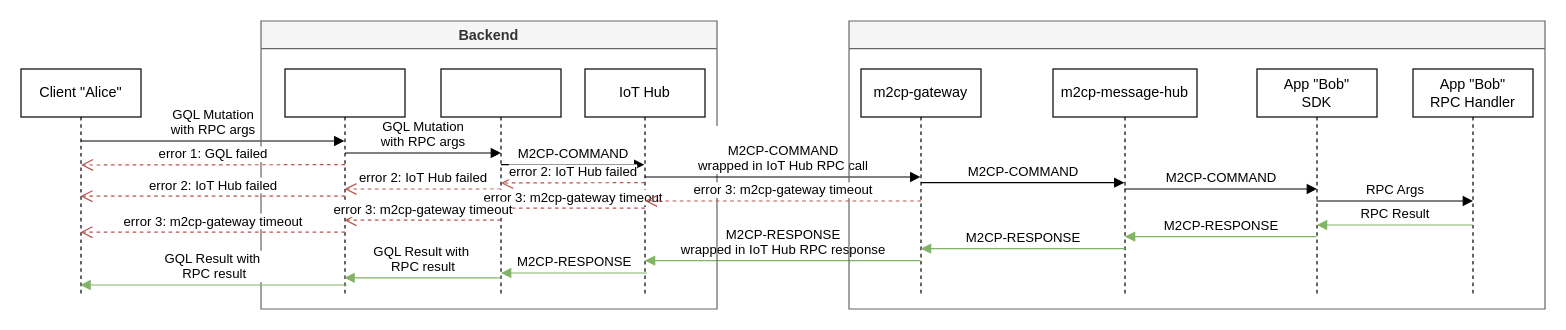
Image size: 1566x330. Some labels were removed from this diagram. The box of each missing label's shape, as (x1, y1, x2, y2) in pixels:
Appstore: (440, 68, 561, 297)
Device: (848, 20, 1545, 309)
GraphQL Gateway: (284, 68, 405, 297)
